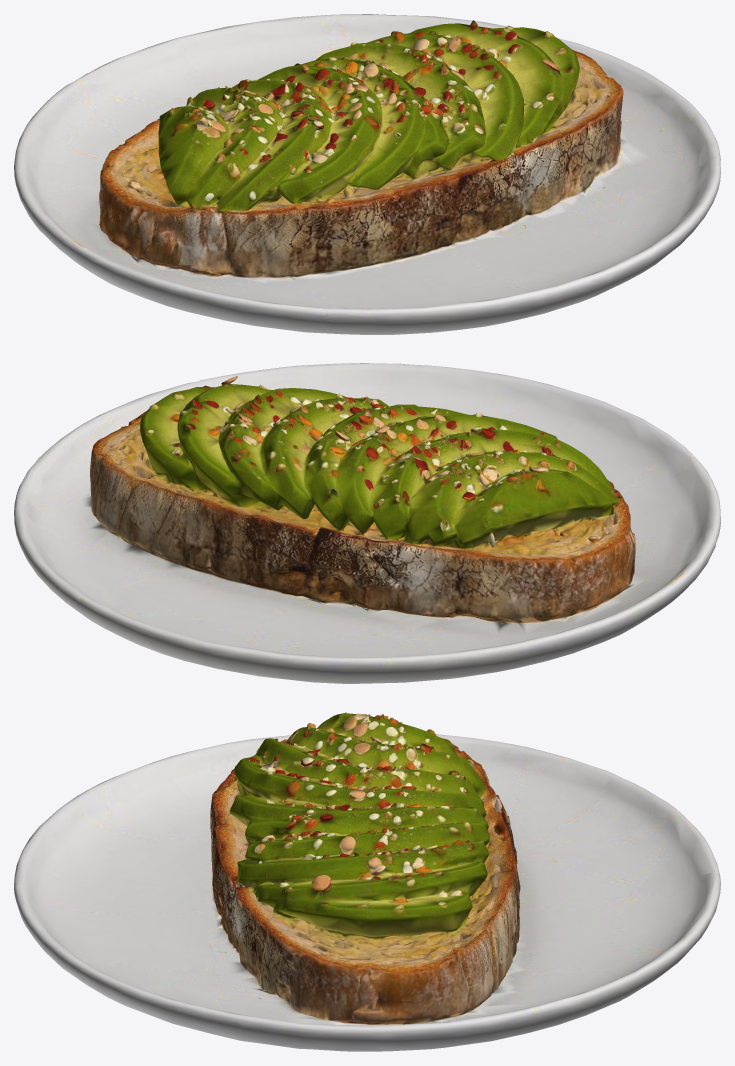
The model's file is avocado-toast-ar.glb.
3 views of the same model, one above another, from view 1: azimuth 30°, elevation 25°; view 2: azimuth 150°, elevation 25°; view 3: azimuth 270°, elevation 25° (orthographic).
Parts seen in each view (by area): view 1: mesh_node; view 2: mesh_node; view 3: mesh_node.
Boxes of the visible parts, x1,y1,x2,y2 form: mesh_node: (14, 14, 720, 334); mesh_node: (14, 363, 720, 683); mesh_node: (14, 712, 720, 1051).
Size of the model in its own units: 0.24 by 0.0519 by 0.2399.
Materials: 1 (1 with a texture image).
